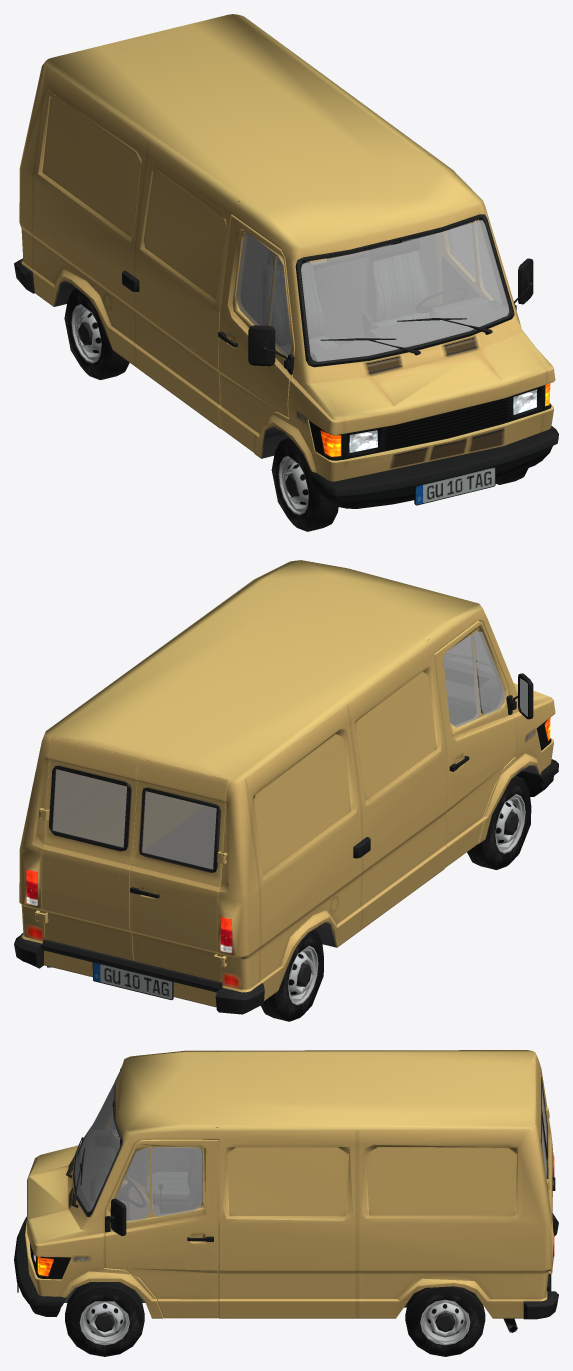
The model's file is car_euvan.glb.
The picture shows the model from 3 angles, top to bottom: view 1: azimuth 30°, elevation 25°; view 2: azimuth 150°, elevation 25°; view 3: azimuth 270°, elevation 25°; orthographic projection. The views are drawn at different scales.
Parts seen in each view (by area): view 1: ignition_ply_van_european_delivery_body_shd_0, glass_windshield_ply_van_european_delivery_glass_shd_0, bumper_front_ply_van_european_delivery_trim_shd_0, wheel_front_ply_van_european_delivery_wheels_shd_0; view 2: ignition_ply_van_european_delivery_body_shd_0, glass_windshield_ply_van_european_delivery_glass_shd_0, wheel_front_ply_van_european_delivery_wheels_shd_0, bumper_front_ply_van_european_delivery_trim_shd_0; view 3: ignition_ply_van_european_delivery_body_shd_0, wheel_front_ply_van_european_delivery_wheels_shd_0, glass_windshield_ply_van_european_delivery_glass_shd_0, bumper_front_ply_van_european_delivery_trim_shd_0.
Boxes of the visible parts, box(x1,y1,x2,y2) form: ignition_ply_van_european_delivery_body_shd_0: box(14, 14, 555, 481); glass_windshield_ply_van_european_delivery_glass_shd_0: box(235, 220, 509, 361); bumper_front_ply_van_european_delivery_trim_shd_0: box(122, 238, 558, 508); wheel_front_ply_van_european_delivery_wheels_shd_0: box(64, 288, 528, 531); ignition_ply_van_european_delivery_body_shd_0: box(14, 560, 555, 1014); glass_windshield_ply_van_european_delivery_glass_shd_0: box(52, 631, 505, 869); wheel_front_ply_van_european_delivery_wheels_shd_0: box(261, 775, 531, 1021); bumper_front_ply_van_european_delivery_trim_shd_0: box(92, 661, 558, 1000); ignition_ply_van_european_delivery_body_shd_0: box(25, 1050, 558, 1319); wheel_front_ply_van_european_delivery_wheels_shd_0: box(65, 1282, 485, 1356); glass_windshield_ply_van_european_delivery_glass_shd_0: box(74, 1074, 547, 1221); bumper_front_ply_van_european_delivery_trim_shd_0: box(14, 1101, 555, 1316).
Size of the model in its own units: 2.66 by 2.51 by 5.37.
5 materials, 4 textured.
